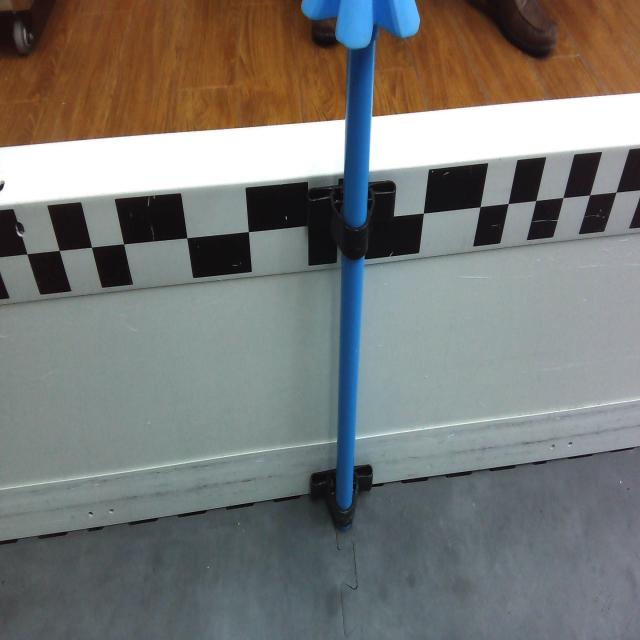zblue-Stake-Head: (301, 0, 420, 51)
